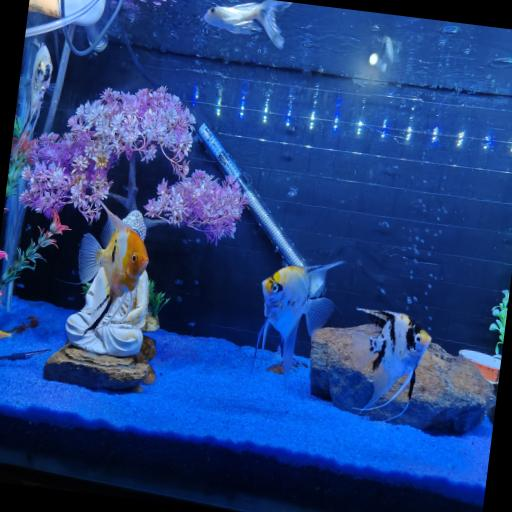Fish: (256, 261, 342, 389), (78, 205, 148, 321), (351, 308, 430, 410), (10, 43, 52, 158), (203, 0, 290, 48), (0, 330, 13, 339)
